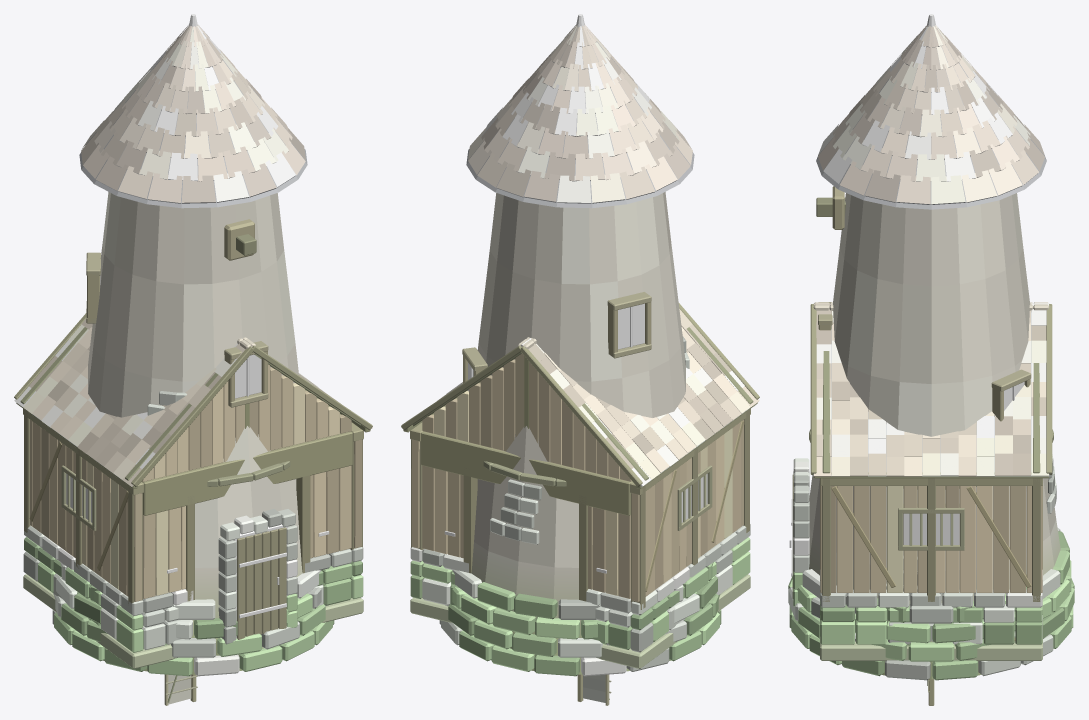
The model's file is kit.glb.
3 renders of one model, left to right at view 1: azimuth 30°, elevation 25°; view 2: azimuth 150°, elevation 25°; view 3: azimuth 270°, elevation 25°, orthographic.
Parts seen in each view (by area): view 1: windmill_body__farm_plaster, windmill_body__farm_roof, windmill_body__watch_stone, barn_wall_front__aged_timber, barn_roof__aged_timber, barn_wall_west__aged_timber, barn_roof__farm_roof, windmill_body__aged_timber, barn_base__watch_stone, barn_wall_west__watch_stone, barn_wall_front__watch_stone, barn_wall_east__aged_timber (+2 smaller); view 2: windmill_body__farm_plaster, windmill_body__farm_roof, windmill_body__watch_stone, barn_roof__aged_timber, barn_wall_back__aged_timber, barn_wall_west__aged_timber, barn_roof__farm_roof, barn_base__watch_stone, barn_wall_west__watch_stone, windmill_body__aged_timber, barn_wall_back__watch_stone, barn_wall_east__aged_timber (+2 smaller); view 3: windmill_body__farm_plaster, windmill_body__farm_roof, barn_wall_east__aged_timber, barn_roof__farm_roof, windmill_body__watch_stone, barn_base__watch_stone, barn_wall_east__watch_stone, barn_roof__aged_timber, windmill_body__aged_timber, barn_wall_east__recess_shadow.
Part boxes in pixels (x1,y1,x2,y2): windmill_body__farm_plaster: (88,192,302,674); windmill_body__farm_roof: (79,25,307,208); windmill_body__watch_stone: (52,391,334,676); barn_wall_front__aged_timber: (141,431,352,601); barn_roof__aged_timber: (14,313,372,488); barn_wall_west__aged_timber: (23,409,143,603); barn_roof__farm_roof: (14,319,372,486); windmill_body__aged_timber: (86,219,290,639); barn_base__watch_stone: (23,551,363,668); barn_wall_west__watch_stone: (24,525,143,630); barn_wall_front__watch_stone: (142,549,352,627); barn_wall_east__aged_timber: (305,389,363,550); windmill_body__farm_plaster: (471,192,685,674); windmill_body__farm_roof: (466,25,694,208); windmill_body__watch_stone: (439,336,721,676); barn_roof__aged_timber: (401,303,759,488); barn_wall_back__aged_timber: (421,431,632,601); barn_wall_west__aged_timber: (630,409,750,609); barn_roof__farm_roof: (401,309,759,486); barn_base__watch_stone: (410,551,750,668); barn_wall_west__watch_stone: (630,524,750,630); windmill_body__aged_timber: (462,292,651,486); barn_wall_back__watch_stone: (422,549,632,627); barn_wall_east__aged_timber: (410,397,457,549); windmill_body__farm_plaster: (809,193,1060,679); windmill_body__farm_roof: (816,25,1046,209); barn_wall_east__aged_timber: (820,478,1042,601); barn_roof__farm_roof: (813,302,1049,476); windmill_body__watch_stone: (788,454,1074,680); barn_base__watch_stone: (820,615,1042,660); barn_wall_east__watch_stone: (820,589,1042,622); barn_roof__aged_timber: (810,304,1052,478); windmill_body__aged_timber: (792,186,1053,598); barn_wall_east__recess_shadow: (903,513,959,544).
Size of the model in its own units: 5.3 by 14.1 by 5.3.
